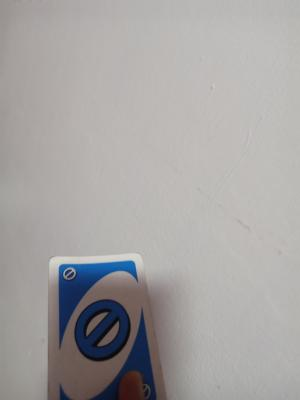blue: (56, 261, 152, 400)
skip: (60, 267, 80, 282)
